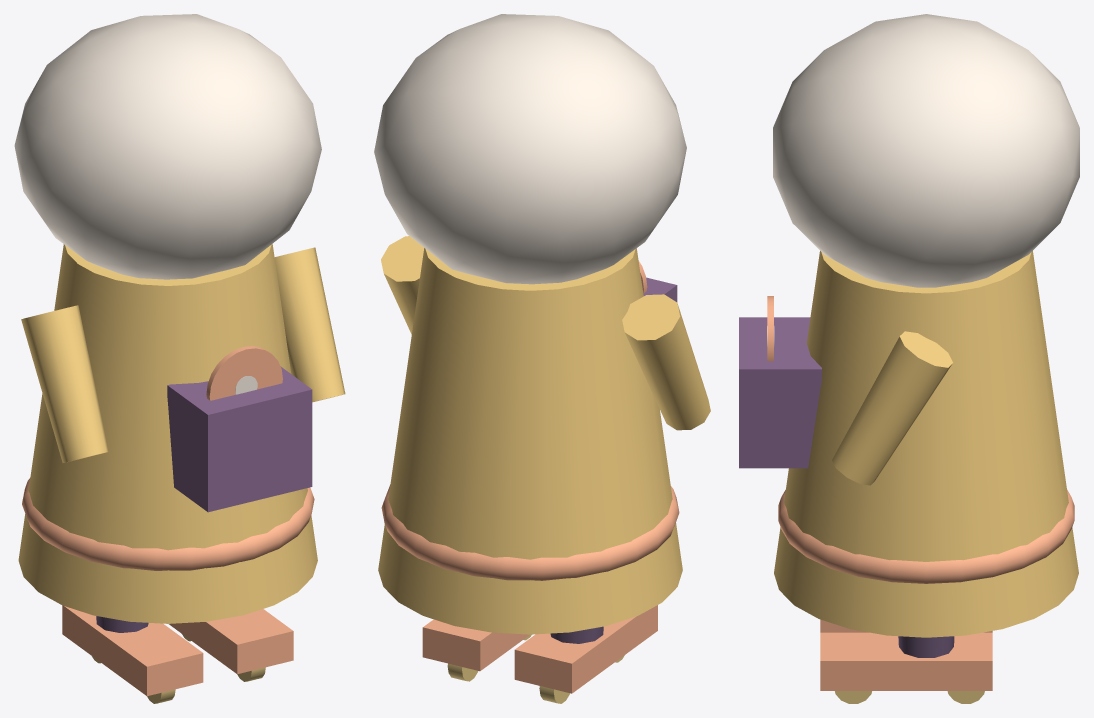
The model's file is marmalade.glb.
The picture shows the model from 3 angles, left to right: view 1: azimuth 30°, elevation 25°; view 2: azimuth 150°, elevation 25°; view 3: azimuth 270°, elevation 25°; orthographic projection.
Parts seen in each view (by area): view 1: afro, body, marm, armL, armR, legL; view 2: body, afro, marm, armL, armR, legL; view 3: body, afro, marm, armR, legR.
Boxes of the visible parts, <box> form: afro: <box>14,14,321,279</box>; body: <box>18,244,317,623</box>; marm: <box>22,346,314,696</box>; armL: <box>21,305,108,462</box>; armR: <box>274,247,345,402</box>; legL: <box>96,616,148,632</box>; body: <box>378,248,682,634</box>; afro: <box>374,14,686,284</box>; marm: <box>381,261,679,693</box>; armL: <box>622,294,710,430</box>; armR: <box>381,236,424,334</box>; legL: <box>550,626,603,643</box>; body: <box>774,251,1078,637</box>; afro: <box>773,14,1079,287</box>; marm: <box>739,296,1074,690</box>; armR: <box>832,331,952,485</box>; legR: <box>898,636,954,657</box>.
Size of the model in its own units: 1.01 by 2.15 by 1.03.
